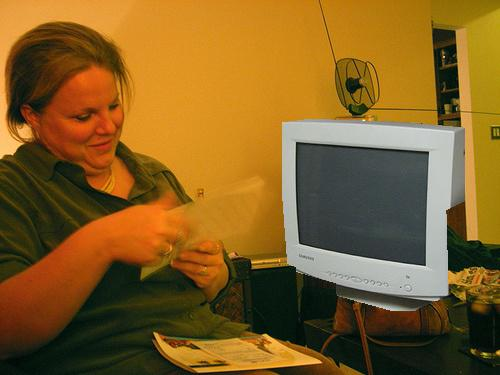tampered: (283, 120, 465, 311)
